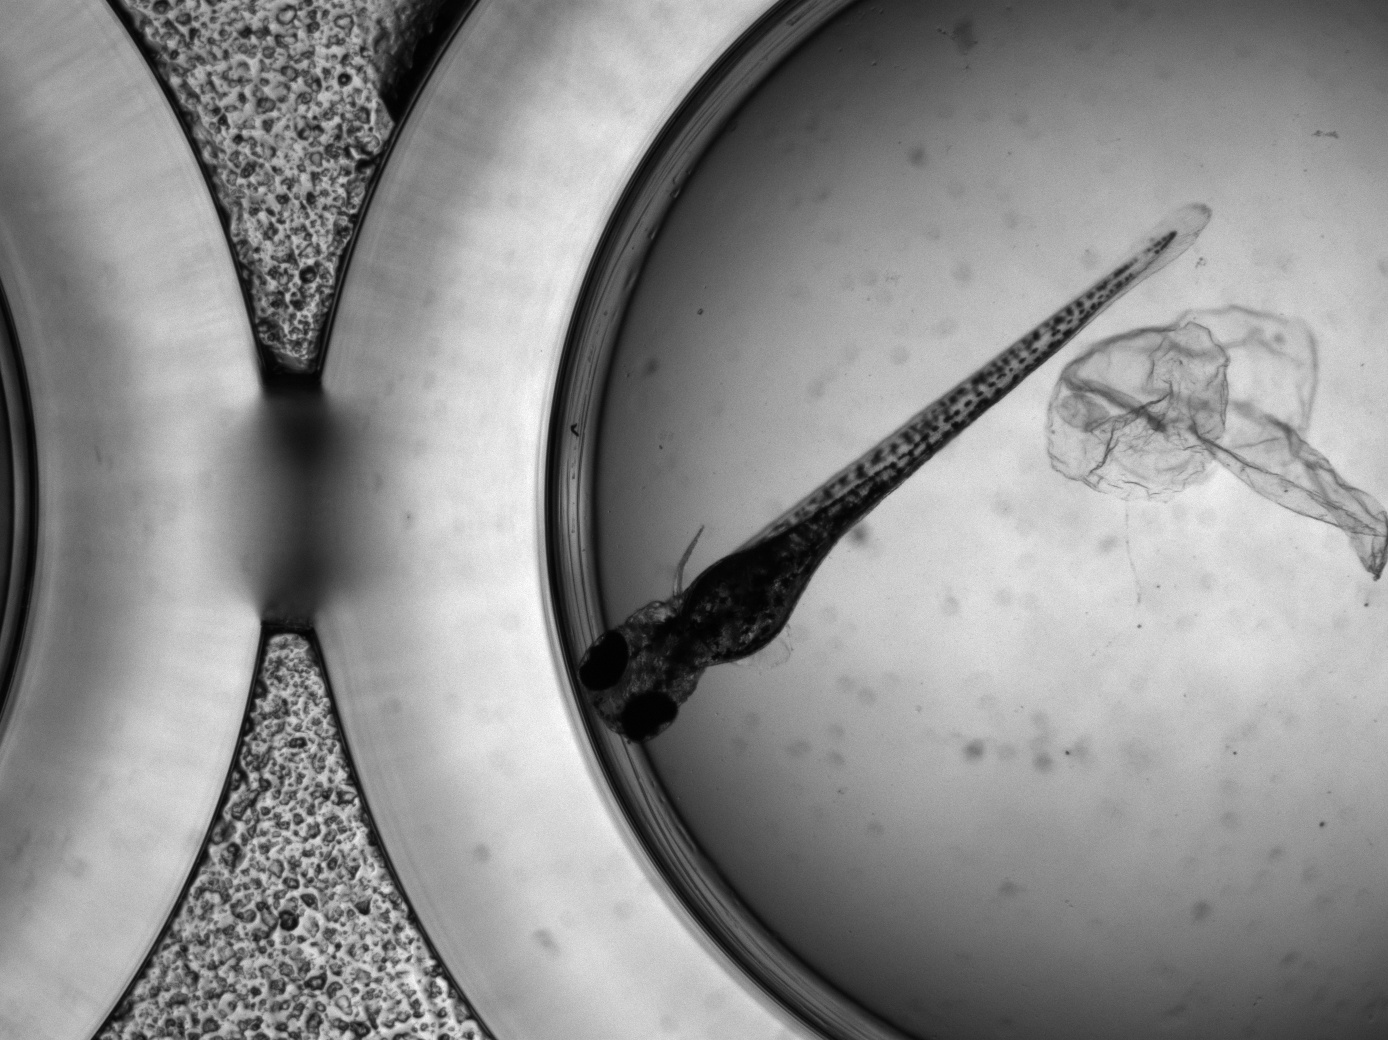debris: (1047, 318, 1386, 582)
embryo: (578, 227, 1182, 741)
eye: (617, 690, 678, 742), (578, 631, 629, 692)
yolksac: (684, 553, 796, 662)
